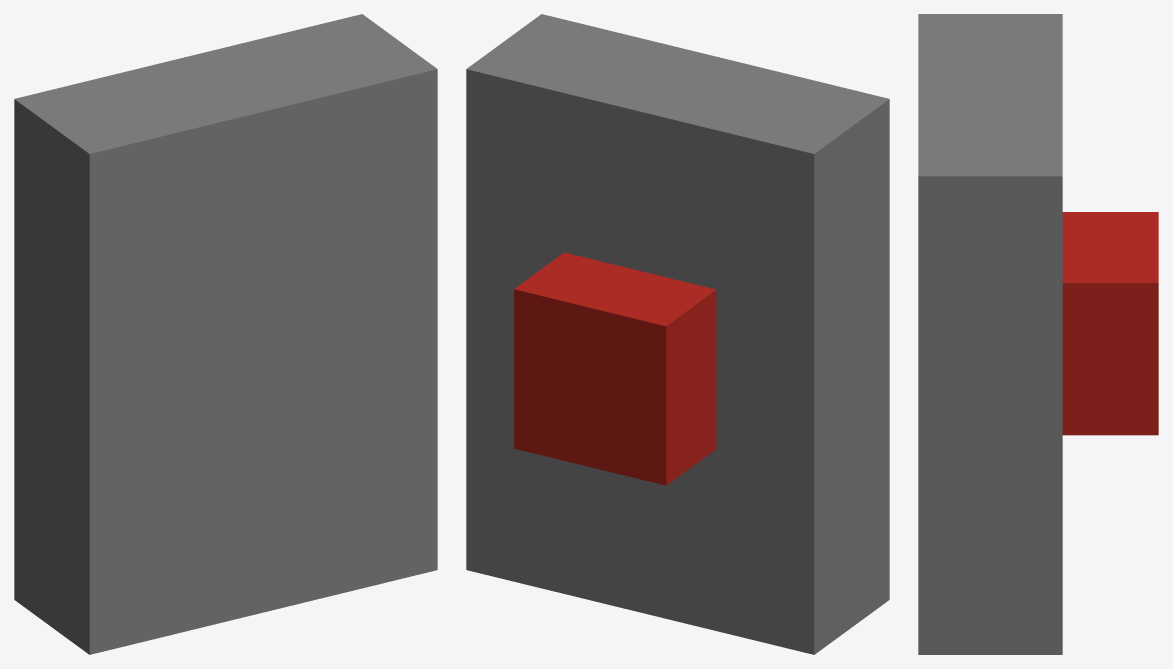
The model's file is switch_v0.glb.
3 views of the same model, side by side, from view 1: azimuth 30°, elevation 25°; view 2: azimuth 150°, elevation 25°; view 3: azimuth 270°, elevation 25° (orthographic). The views are drawn at different scales.
Parts seen in each view (by area): view 1: switch_v0; view 2: switch_v0; view 3: switch_v0.
Part boxes in pixels (box(x1,y1,x2,y2)): switch_v0: box(14, 14, 437, 654); switch_v0: box(466, 14, 889, 654); switch_v0: box(918, 14, 1158, 654).
Bounding box in the file's own units: 0.16 × 0.22 × 0.1.
